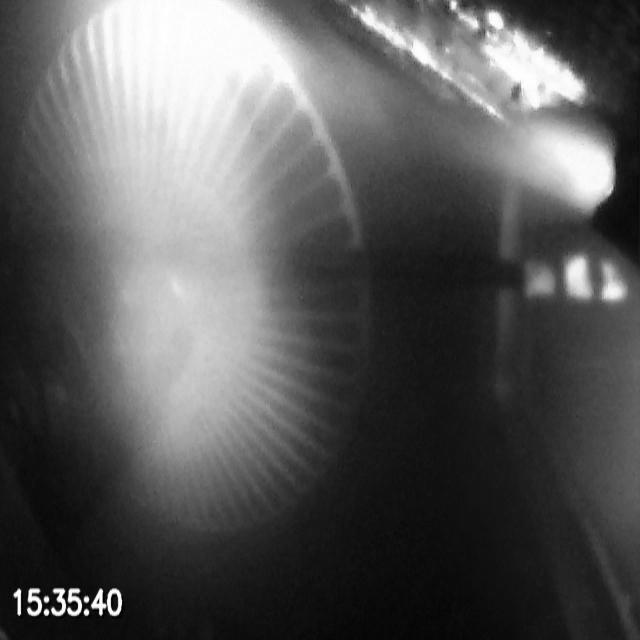white-dots: (524, 252, 631, 305)
